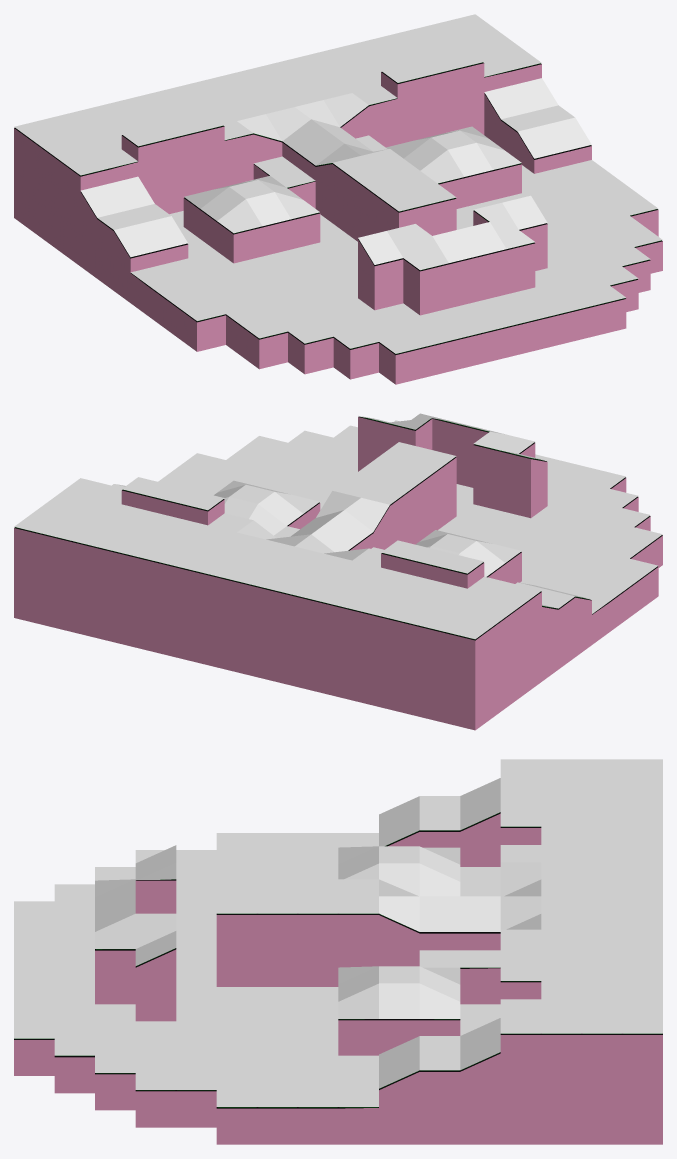
File: 1stLevelv3.glb
3 renders of one model, top to bottom at view 1: azimuth 30°, elevation 25°; view 2: azimuth 150°, elevation 25°; view 3: azimuth 270°, elevation 25°, orthographic. The views are drawn at different scales.
Visible parts, largest first — view 1: Terrain, Tile.096, Tile.098, Tile.143, Tile.164, Tile.168, Tile.103, Tile.159, Tile.169, Tile.100, Tile.161, Tile.170 (+19 smaller); view 2: Terrain, Tile.113, Tile.115, Tile.142, Tile.117, Tile.150, Tile.112, Tile.158, Tile.156, Tile.229, Tile.003, Tile.018 (+109 smaller); view 3: Terrain, Tile.114, Tile.116, Tile.153, Tile.101, Tile.220, Tile.120, Tile.157, Tile.112, Tile.149, Tile.102, Tile.147 (+164 smaller).
Part boxes in pixels (<box>): Terrain: <box>14,62,662,384</box>; Tile.096: <box>358,231,402,264</box>; Tile.098: <box>432,229,477,262</box>; Tile.143: <box>246,192,290,226</box>; Tile.164: <box>114,223,158,257</box>; Tile.168: <box>81,183,125,217</box>; Tile.103: <box>502,195,547,229</box>; Tile.159: <box>518,124,562,158</box>; Tile.169: <box>484,85,529,119</box>; Tile.100: <box>461,222,506,255</box>; Tile.161: <box>143,216,187,250</box>; Tile.170: <box>513,78,558,112</box>; Terrain: <box>14,416,662,730</box>; Tile.113: <box>345,498,389,531</box>; Tile.115: <box>328,510,372,543</box>; Tile.142: <box>258,492,303,525</box>; Tile.117: <box>311,522,356,552</box>; Tile.150: <box>460,541,504,574</box>; Tile.112: <box>316,491,360,517</box>; Tile.158: <box>249,504,286,535</box>; Tile.156: <box>224,497,257,518</box>; Tile.229: <box>117,523,162,542</box>; Tile.003: <box>552,462,597,481</box>; Tile.018: <box>564,482,609,500</box>; Terrain: <box>14,812,662,1144</box>; Tile.114: <box>419,896,460,931</box>; Tile.116: <box>460,896,500,931</box>; Tile.153: <box>379,983,419,1018</box>; Tile.101: <box>135,913,176,948</box>; Tile.220: <box>500,896,541,929</box>; Tile.120: <box>500,862,541,896</box>; Tile.157: <box>419,984,460,1018</box>; Tile.112: <box>379,896,419,931</box>; Tile.149: <box>338,983,378,1018</box>; Tile.102: <box>95,914,135,948</box>; Tile.147: <box>379,863,419,896</box>.
Bounding box in the file's own units: 16 × 3.52 × 16.
